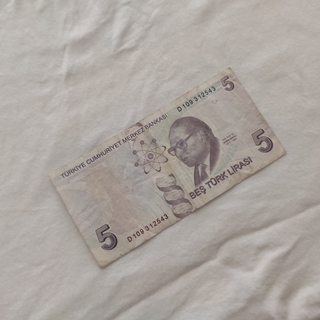5TLBack: (45, 64, 286, 270)
